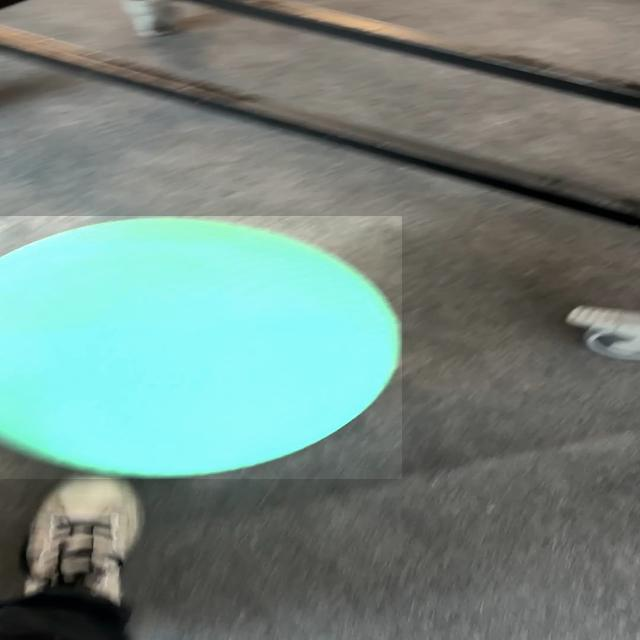Algae: (0, 216, 402, 479)
